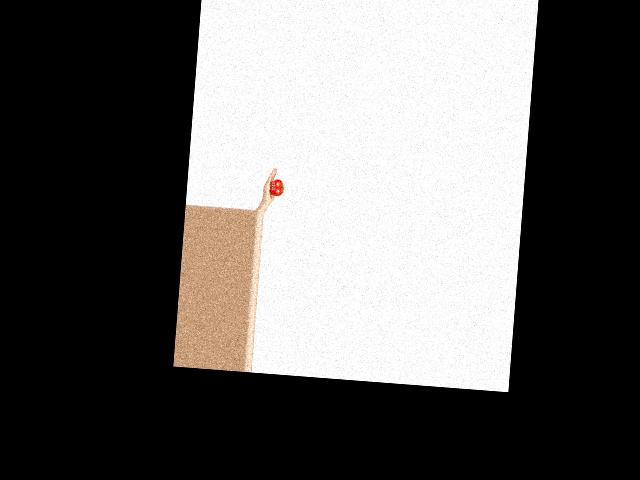tomato: (268, 178, 284, 196)
